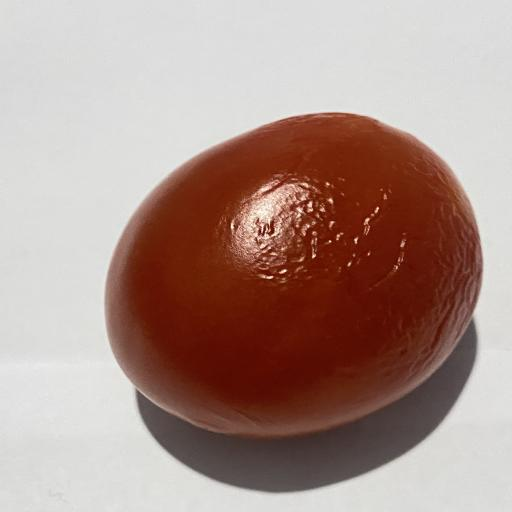overipe: (106, 113, 482, 437)
spoiled: (106, 113, 482, 437)
